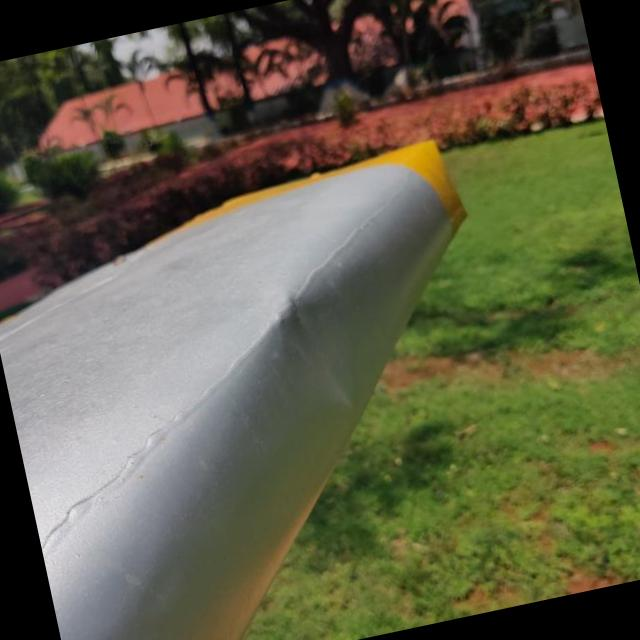Dent: (253, 265, 393, 445)
